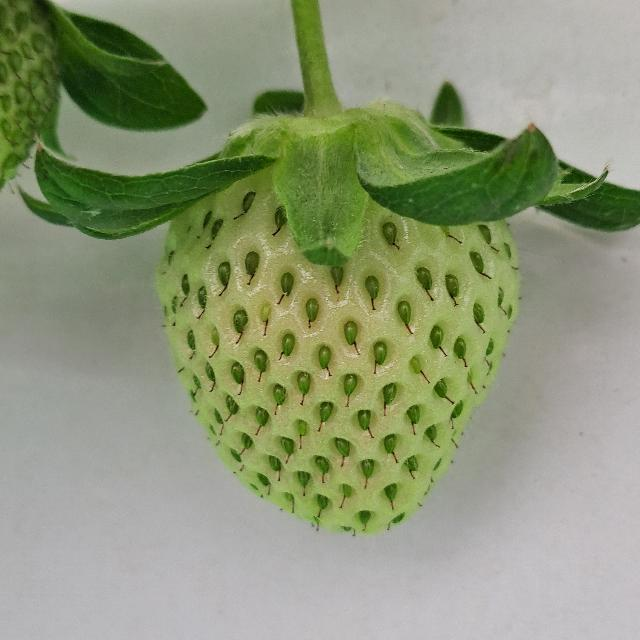Health_25: (156, 163, 520, 534)
